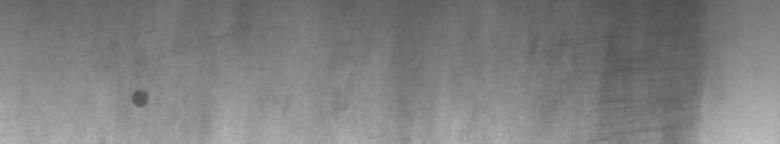fi: (127, 82, 155, 117)
